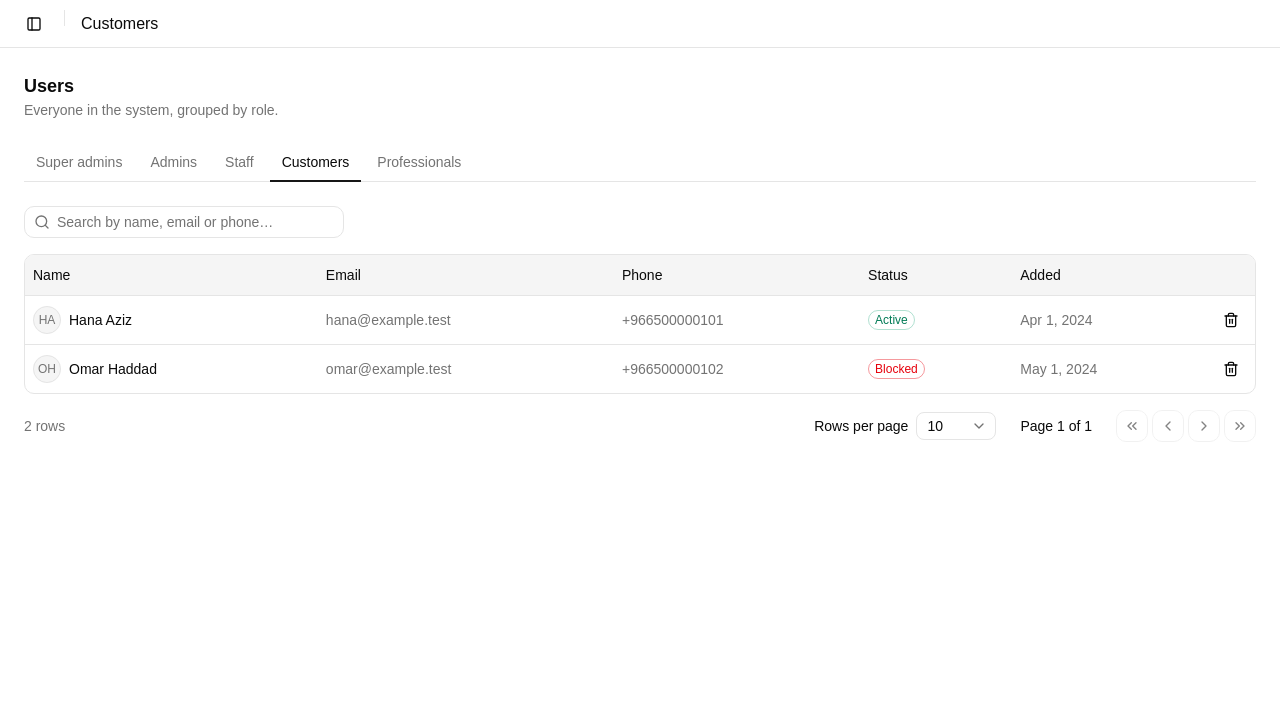
Scenario: row detail modal › opens the modal for the clicked row
Step 1. Click the text "Hana Aziz" → x=100, y=320, box 69,310 -> 132,330
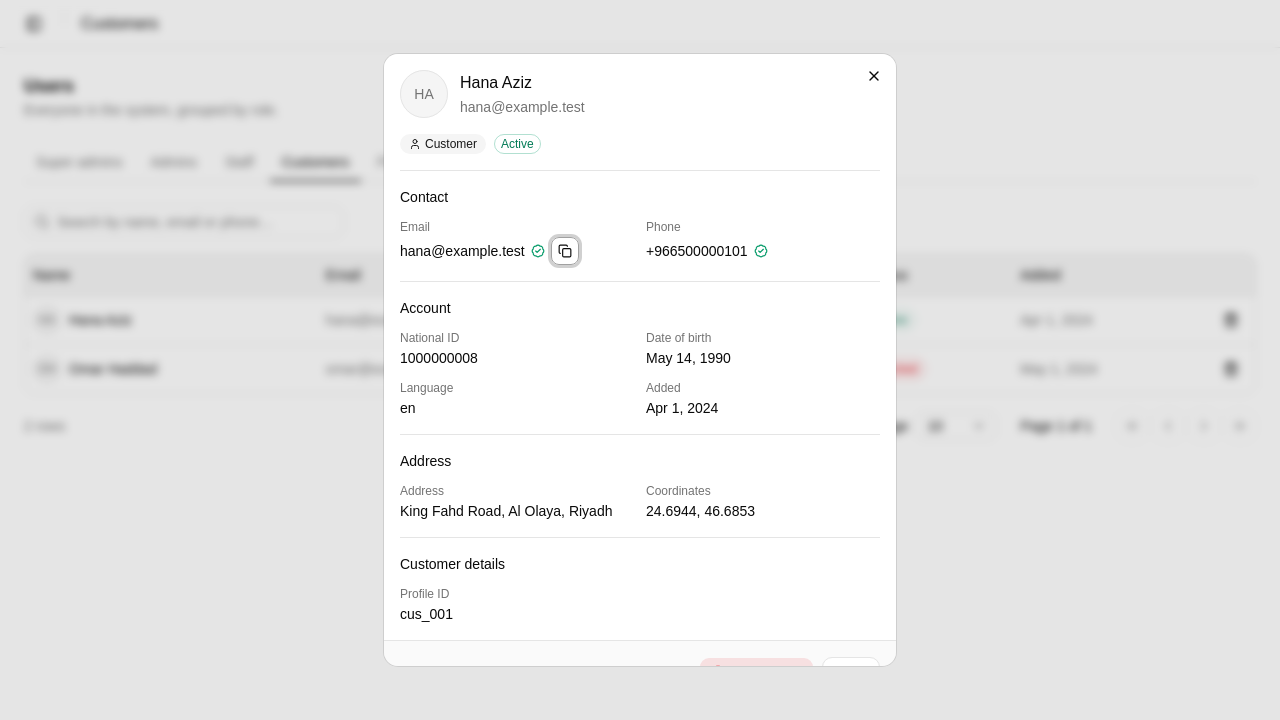
Expected: the heading "Hana Aziz" is shown, 460,74 -> 532,91
Expected: the text "King Fahd Road, Al Olaya, Riyadh" is shown, 400,501 -> 634,521
